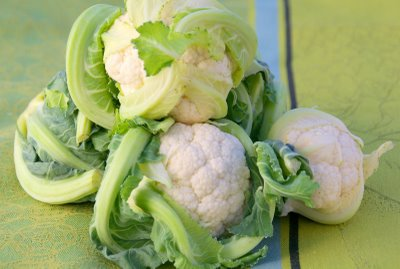cauliflower: (62, 0, 259, 129), (255, 106, 394, 225), (153, 126, 255, 239)
